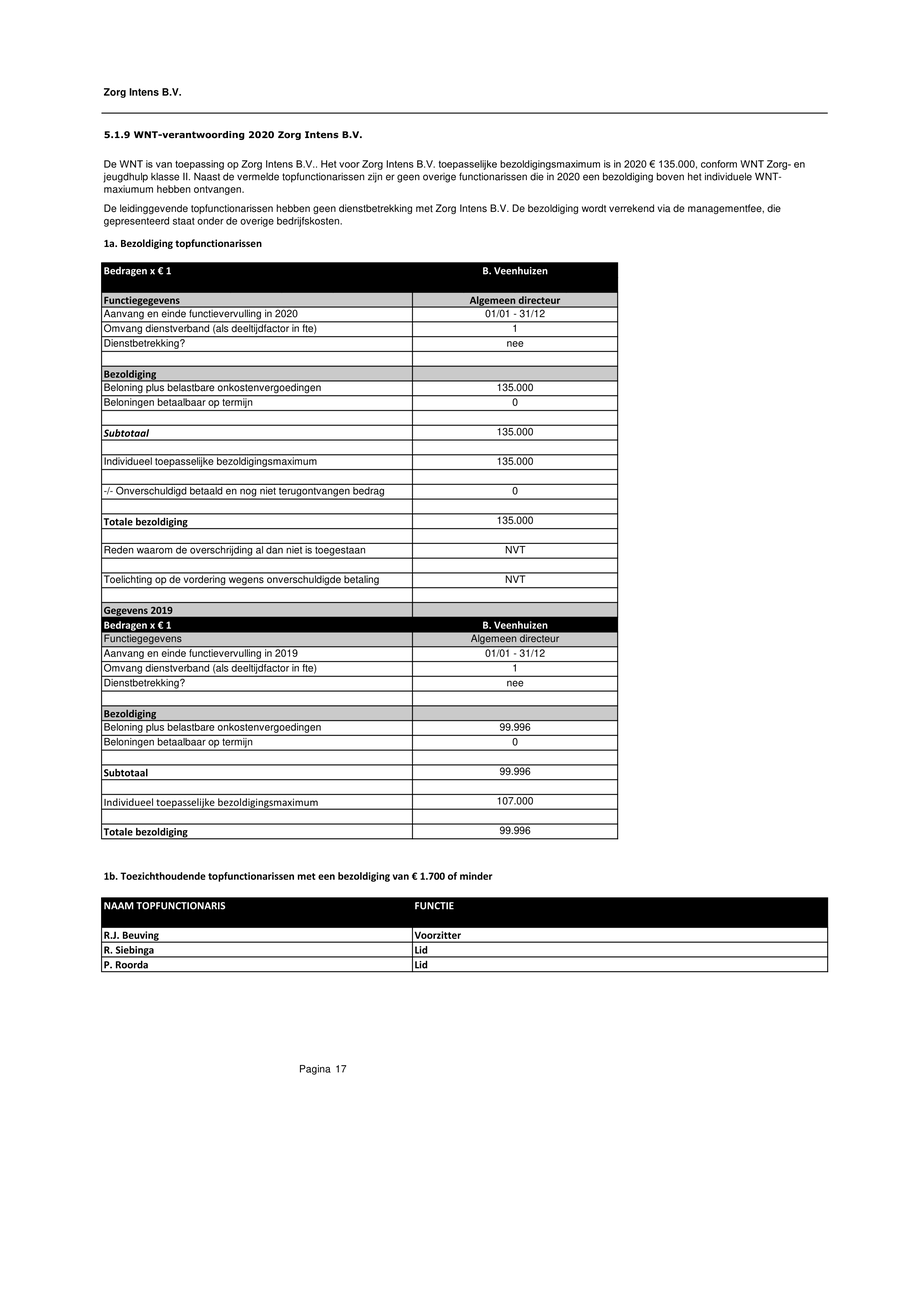coulmn: (97, 265, 391, 847), (461, 262, 585, 840)
